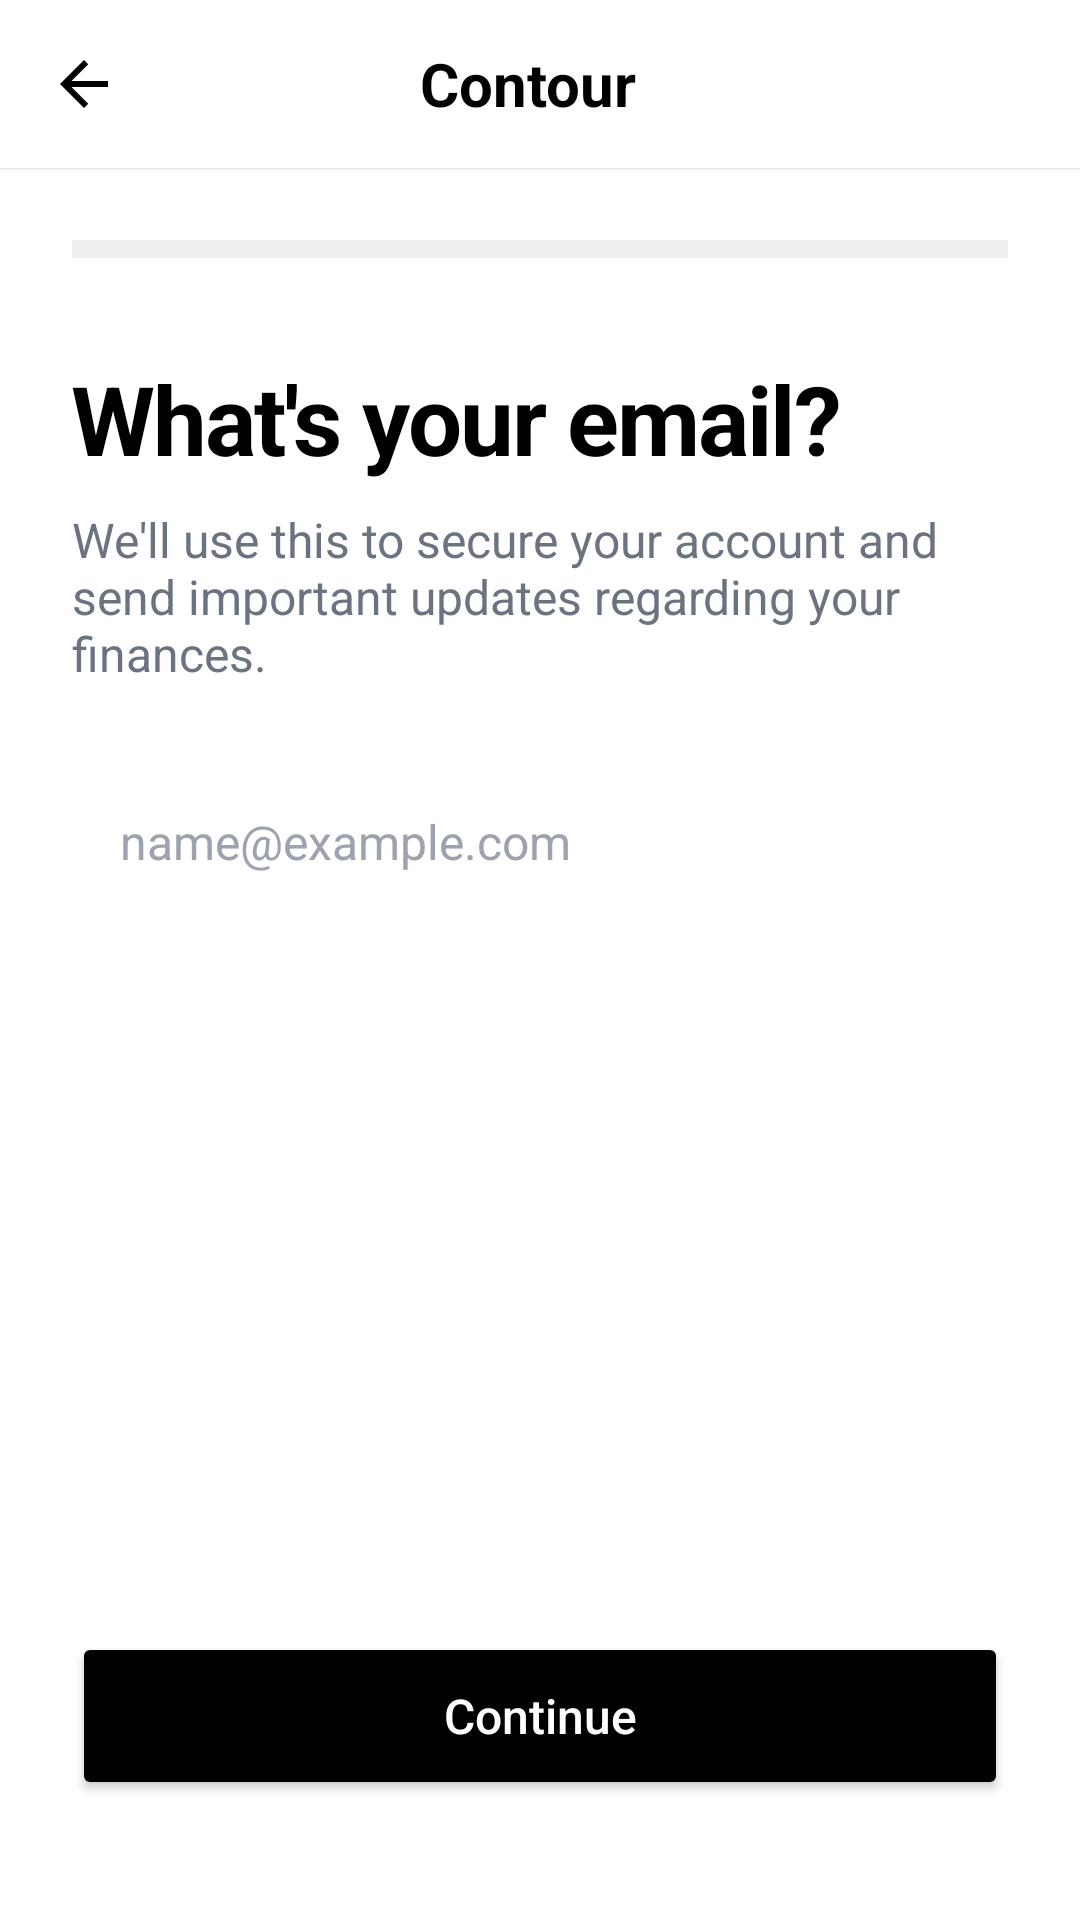

Screen size 1080w x 1920h. Icon name, then its box in pixels as BBox(x1, y1, x2, y2):
Go back: BBox(60, 60, 108, 108)
